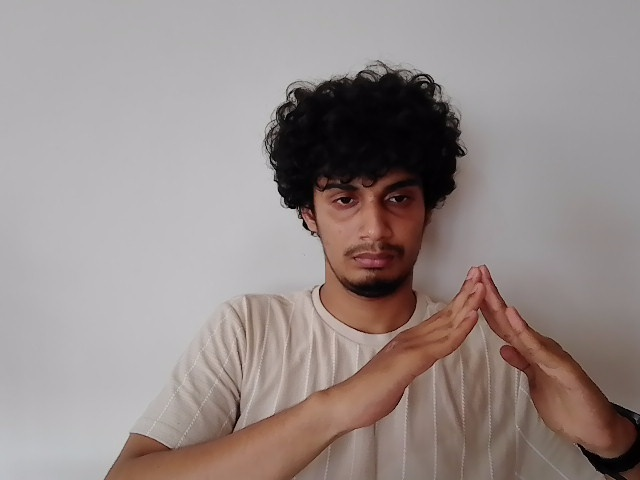home: (331, 260, 616, 451)
